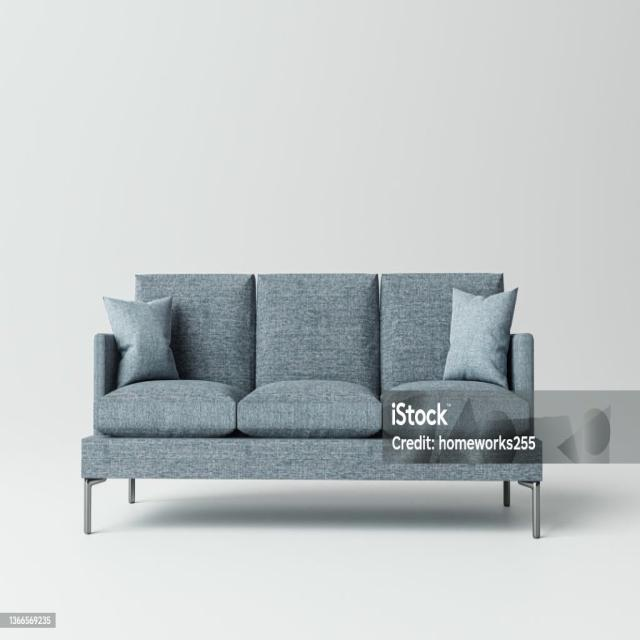back_cushion: (136, 274, 503, 394)
base: (81, 435, 436, 480), (484, 451, 541, 480), (437, 463, 479, 479)
left_arm: (508, 333, 534, 409)
legs: (83, 479, 105, 534), (519, 482, 539, 538), (503, 481, 510, 506), (128, 479, 135, 503)
right_arm: (94, 333, 119, 401)
seat_cushion: (94, 381, 529, 438)
stallion-sofa1: (0, 0, 639, 639)
